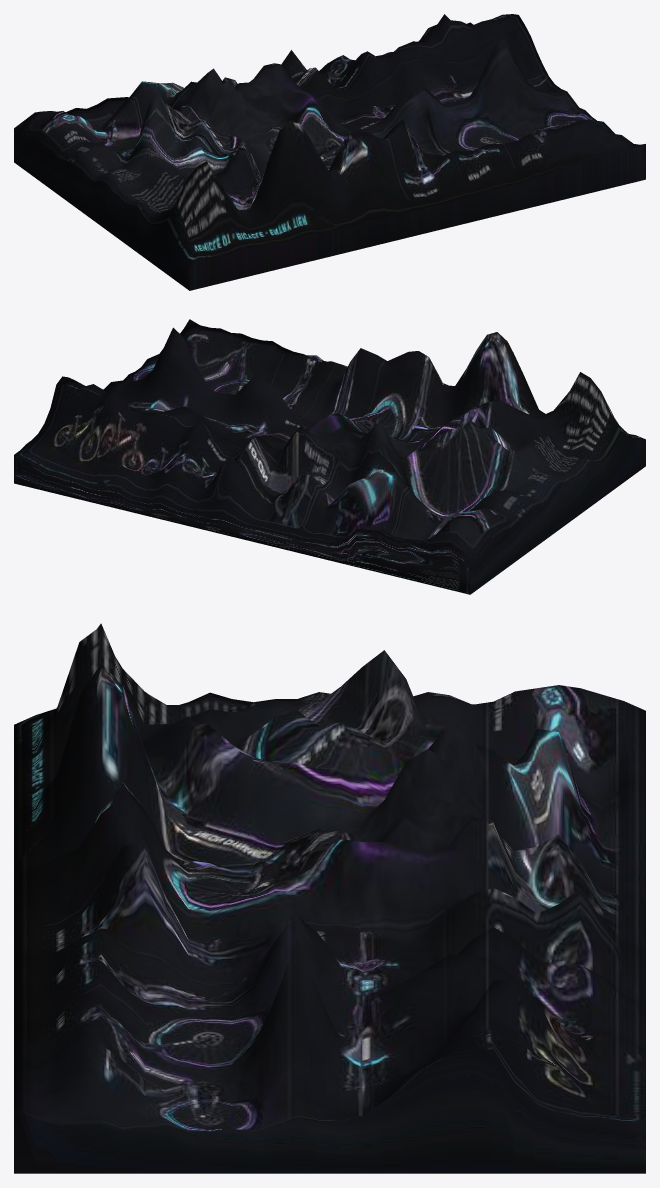
The model's file is VEHICLE_01_Bicycle.glb.
3 views of the same model, one above another, from view 1: azimuth 30°, elevation 25°; view 2: azimuth 150°, elevation 25°; view 3: azimuth 270°, elevation 25° (orthographic). The views are drawn at different scales.
Parts seen in each view (by area): view 1: VEHICLE_01_Bicycle; view 2: VEHICLE_01_Bicycle; view 3: VEHICLE_01_Bicycle.
Boxes of the visible parts, x1,y1,x2,y2 form: VEHICLE_01_Bicycle: (14, 14, 645, 290); VEHICLE_01_Bicycle: (14, 319, 645, 594); VEHICLE_01_Bicycle: (14, 623, 645, 1173).
Size of the model in its own units: 2 by 0.51 by 1.33.
Materials: 1 (1 with a texture image).
